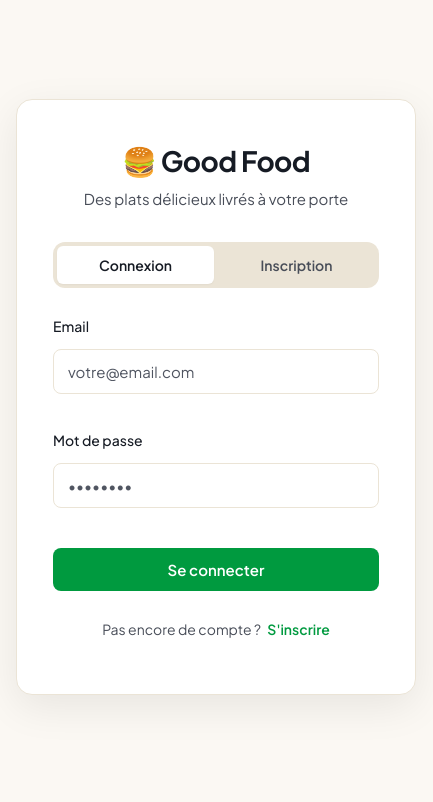
Auth Component › switches to register form when register tab is clicked
The image size is (433, 802).
Click the button "Inscription": (296,265) [218,246,375,284]
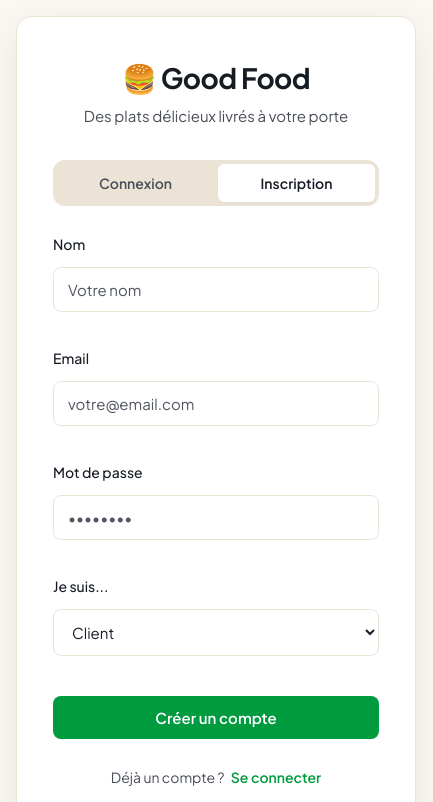
Expected: the field with placeholder "Votre nom" is shown, [53,266,379,312]
Expected: the text "Je suis..." is shown, [53,576,108,594]
